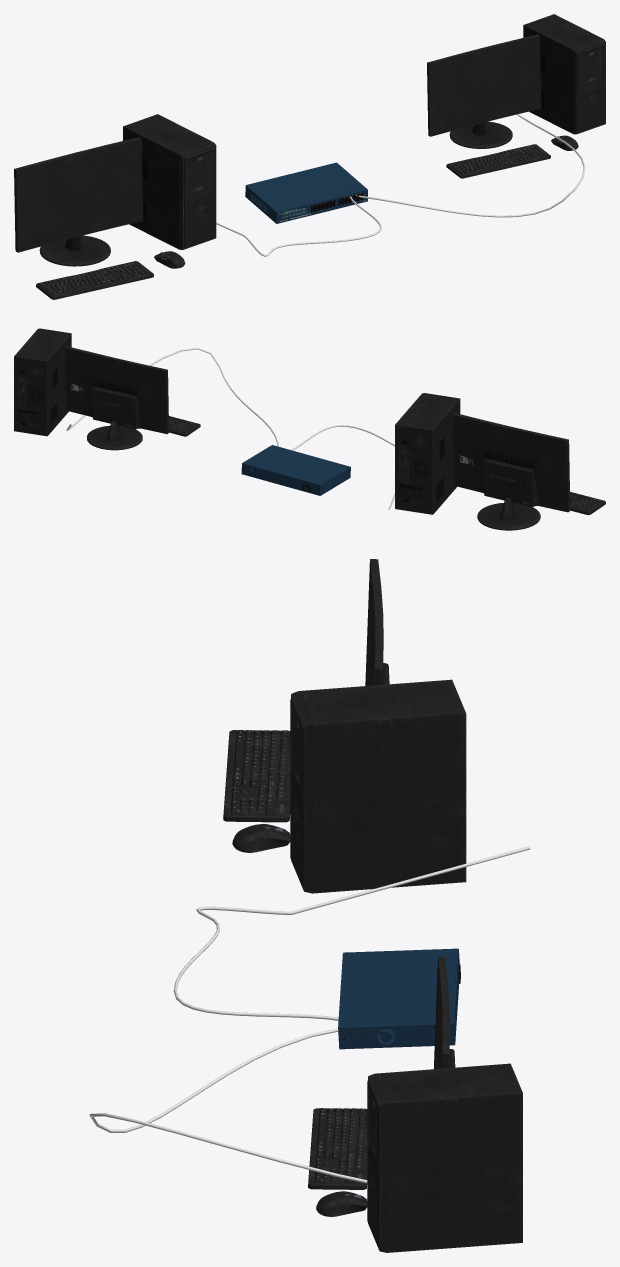
File: lab_full.glb
3 views of the same model, one above another, from view 1: azimuth 30°, elevation 25°; view 2: azimuth 150°, elevation 25°; view 3: azimuth 270°, elevation 25° (orthographic). The views are drawn at different scales.
Visible parts, largest first — view 1: SM_PC_Box_01, SM_PC_Box_01_1_0.001, Cube.002, BézierCurve; view 2: SM_PC_Box_01, SM_PC_Box_01_1_0.001, Cube.002, BézierCurve; view 3: SM_PC_Box_01, SM_PC_Box_01_1_0.001, Cube.002, BézierCurve.
Part boxes in pixels (x1,y1,x2,y2): SM_PC_Box_01: (14, 114, 216, 299); SM_PC_Box_01_1_0.001: (427, 14, 605, 178); Cube.002: (245, 162, 367, 223); BézierCurve: (216, 114, 585, 256); SM_PC_Box_01: (395, 393, 605, 530); SM_PC_Box_01_1_0.001: (14, 328, 200, 450); Cube.002: (241, 445, 350, 495); BézierCurve: (66, 347, 394, 509); SM_PC_Box_01: (223, 559, 466, 893); SM_PC_Box_01_1_0.001: (308, 956, 522, 1252); Cube.002: (338, 948, 460, 1049); BézierCurve: (89, 846, 530, 1183).
Size of the model in its own units: 15.82 by 2.79 by 5.7.
2 materials, 2 textured.
